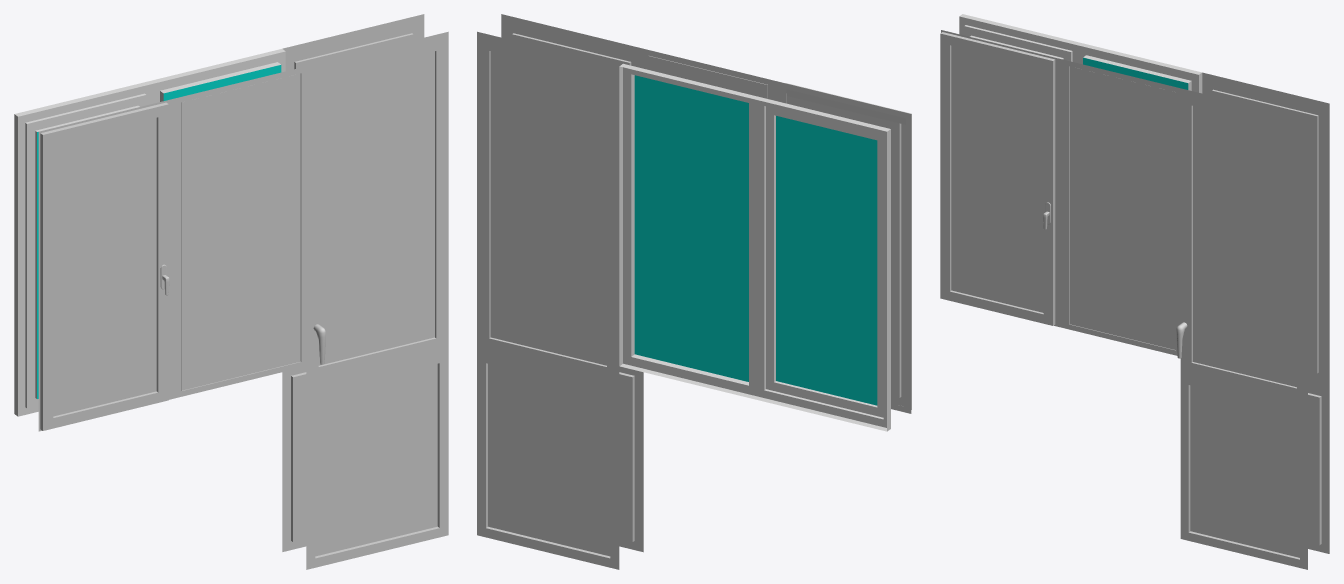
The model's file is balcony old.fbx.
The picture shows the model from 3 angles, left to right: view 1: azimuth 30°, elevation 25°; view 2: azimuth 150°, elevation 25°; view 3: azimuth 330°, elevation 25°; orthographic projection. The views are drawn at different scales.
Visible parts, largest first — view 1: old balcony, old.balcony door, windows 2.001, old.balcony door.001, windows 2.003; view 2: old.balcony door.001, windows 2.003, windows 2.001, old balcony, old.balcony door; view 3: old balcony, old.balcony door, old.balcony door.001, windows 2.001, windows 2.003.
Part boxes in pixels (bbox=[...]): old balcony: bbox=[38, 66, 306, 431]; old.balcony door: bbox=[306, 31, 448, 569]; windows 2.001: bbox=[14, 49, 285, 416]; old.balcony door.001: bbox=[282, 14, 424, 551]; windows 2.003: bbox=[37, 65, 281, 398]; old.balcony door.001: bbox=[477, 31, 619, 569]; windows 2.003: bbox=[634, 75, 877, 405]; windows 2.001: bbox=[619, 63, 890, 431]; old balcony: bbox=[643, 49, 911, 413]; old.balcony door: bbox=[501, 14, 643, 552]; old balcony: bbox=[940, 30, 1180, 355]; old.balcony door: bbox=[1176, 88, 1307, 569]; old.balcony door.001: bbox=[1202, 72, 1329, 553]; windows 2.001: bbox=[959, 14, 1202, 93]; windows 2.003: bbox=[1083, 57, 1188, 89].
Size of the model in its own units: 196 by 230 by 28.33.
